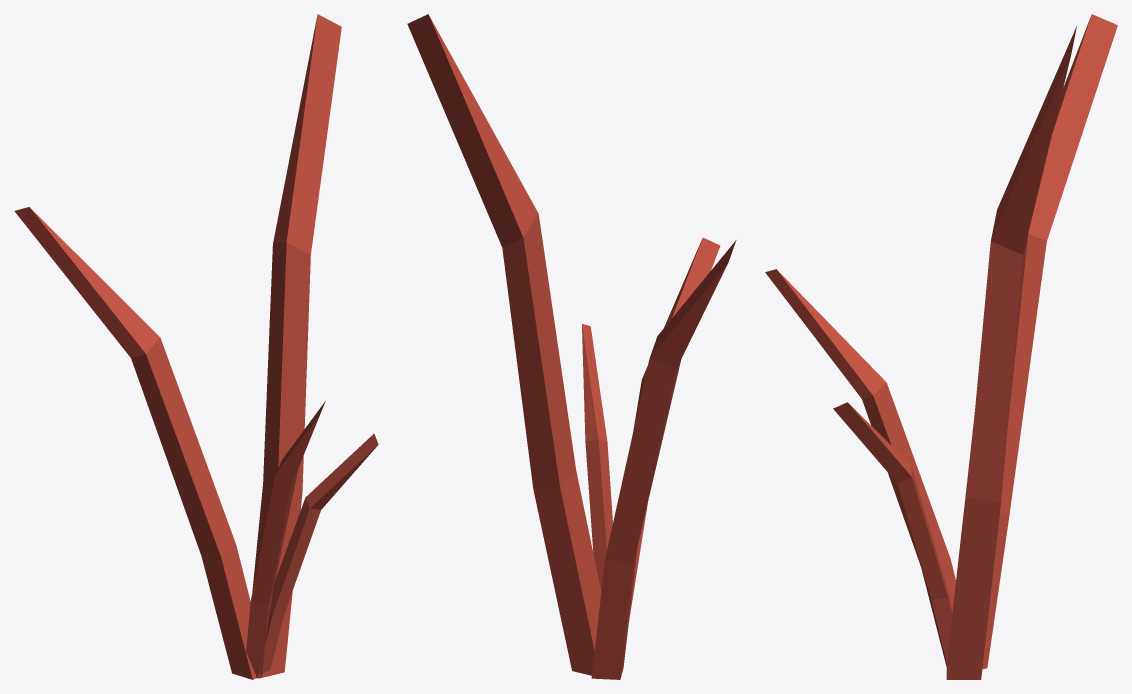
File: Grass_2_Red.fbx
3 renders of one model, left to right at view 1: azimuth 30°, elevation 25°; view 2: azimuth 150°, elevation 25°; view 3: azimuth 270°, elevation 25°, orthographic. The views are drawn at different scales.
Parts seen in each view (by area): view 1: Grass_2_Red; view 2: Grass_2_Red; view 3: Grass_2_Red.
Part boxes in pixels (x1,y1,x2,y2): Grass_2_Red: (14,14,378,679); Grass_2_Red: (407,14,736,679); Grass_2_Red: (765,14,1117,679).
Bounding box in the file's own units: 9.74 × 18.04 × 8.18.
